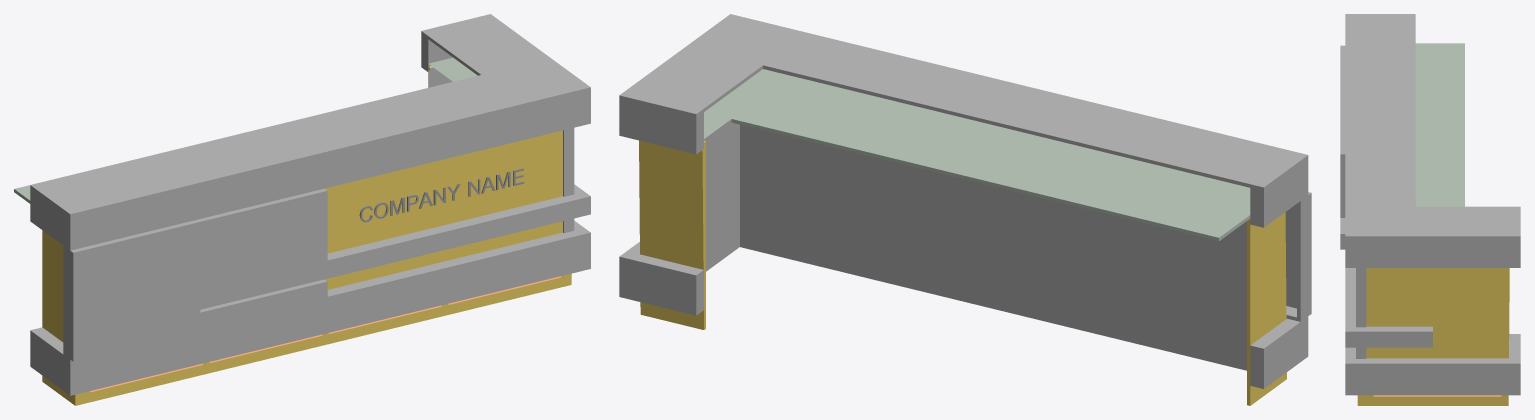
The model's file is Reception_Desk_1_fbx.glb.
The picture shows the model from 3 angles, left to right: view 1: azimuth 30°, elevation 25°; view 2: azimuth 150°, elevation 25°; view 3: azimuth 270°, elevation 25°; orthographic projection. The views are drawn at different scales.
Visible parts, largest first — view 1: Reception_desk_1_8, Reception_desk_1_4, Reception_desk_1_1, Reception_desk_1_2, Reception_desk_1_5, Reception_desk_1_14, Reception_desk_1_3, Reception_desk_1_6, Reception_desk_1_13; view 2: Reception_desk_1_12, Reception_desk_1_8, Reception_desk_1_13, Reception_desk_1_1, Reception_desk_1_2, Reception_desk_1_4; view 3: Reception_desk_1_8, Reception_desk_1_1, Reception_desk_1_13, Reception_desk_1_2, Reception_desk_1_5, Reception_desk_1_4, Reception_desk_1_3, Reception_desk_1_6.
Part boxes in pixels (left/top/right/bottom): Reception_desk_1_8: left=30, top=14, right=590, bottom=250; Reception_desk_1_4: left=63, top=188, right=327, bottom=361; Reception_desk_1_1: left=42, top=66, right=571, bottom=405; Reception_desk_1_2: left=30, top=221, right=590, bottom=395; Reception_desk_1_5: left=200, top=184, right=590, bottom=309; Reception_desk_1_14: left=359, top=168, right=524, bottom=222; Reception_desk_1_3: left=563, top=128, right=574, bottom=233; Reception_desk_1_6: left=90, top=276, right=560, bottom=391; Reception_desk_1_13: left=14, top=57, right=477, bottom=203; Reception_desk_1_12: left=704, top=119, right=1246, bottom=370; Reception_desk_1_8: left=619, top=14, right=1308, bottom=227; Reception_desk_1_13: left=704, top=69, right=1250, bottom=241; Reception_desk_1_1: left=639, top=140, right=1286, bottom=405; Reception_desk_1_2: left=619, top=242, right=1308, bottom=388; Reception_desk_1_4: left=1285, top=192, right=1311, bottom=321; Reception_desk_1_8: left=1345, top=14, right=1520, bottom=267; Reception_desk_1_1: left=1357, top=268, right=1509, bottom=405; Reception_desk_1_13: left=1415, top=43, right=1464, bottom=206; Reception_desk_1_2: left=1345, top=334, right=1520, bottom=395; Reception_desk_1_5: left=1345, top=268, right=1432, bottom=347; Reception_desk_1_4: left=1340, top=45, right=1345, bottom=249; Reception_desk_1_3: left=1356, top=268, right=1366, bottom=358; Reception_desk_1_6: left=1373, top=395, right=1501, bottom=396.
Size of what is drawn, in the model's own units: 300 by 110 by 103.
